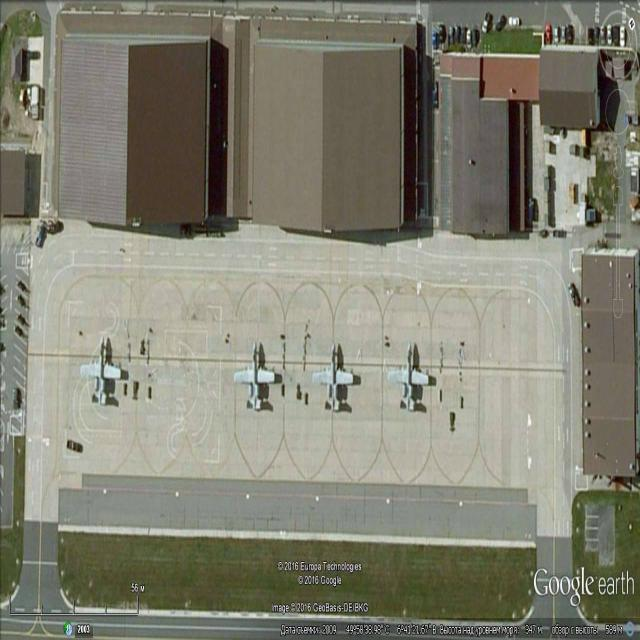MIL_Plane: (80, 335, 122, 406), (233, 342, 275, 413), (312, 342, 354, 412), (387, 343, 429, 412)
